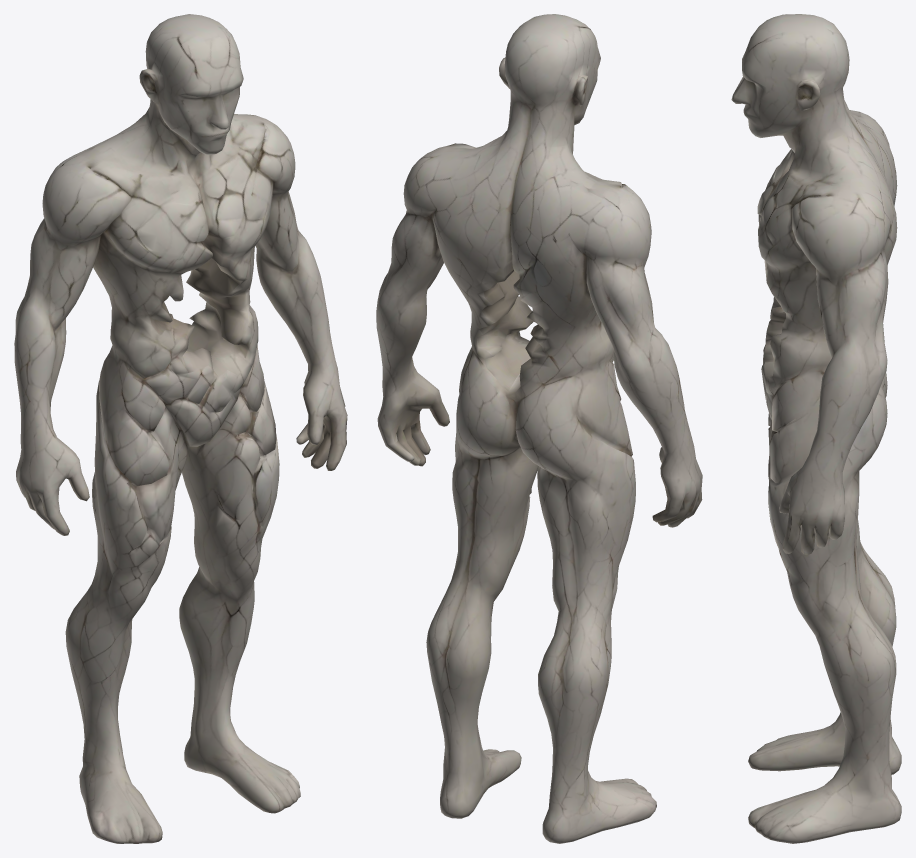
The model's file is Ruins__crumbling_6114e60b_v2.cluster.glb.
3 views of the same model, side by side, from view 1: azimuth 30°, elevation 25°; view 2: azimuth 150°, elevation 25°; view 3: azimuth 270°, elevation 25° (orthographic). The views are drawn at different scales.
Visible parts, largest first — view 1: material; view 2: material; view 3: material.
Boxes of the visible parts, <box> form: material: <box>14,14,347,843</box>; material: <box>376,14,702,843</box>; material: <box>731,14,901,843</box>.
Size of the model in its own units: 0.8065 by 1.9 by 0.3769.
1 material, 1 textured.
